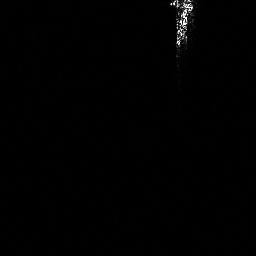ship: (169, 1, 195, 73)
